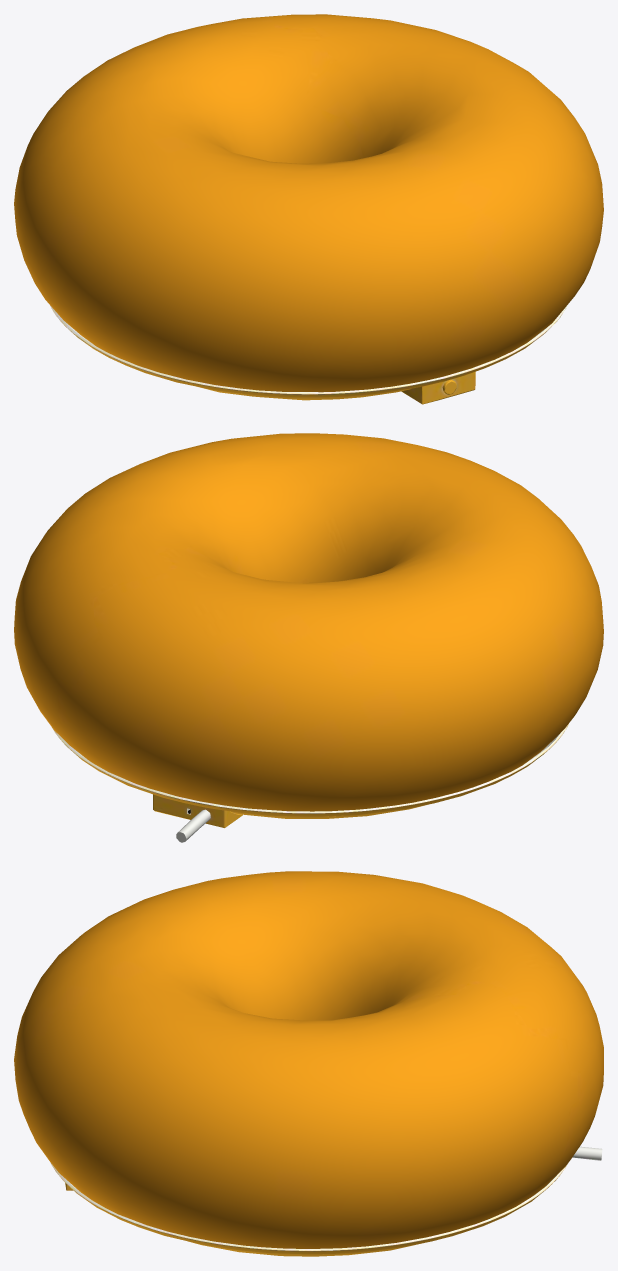
File: varmblixt_lampa_led_stoowa_scienna_80499199.glb
The picture shows the model from 3 angles, top to bottom: view 1: azimuth 30°, elevation 25°; view 2: azimuth 150°, elevation 25°; view 3: azimuth 270°, elevation 25°; orthographic projection.
Visible parts, largest first — view 1: varmblixt_lampa_led_stoowa_scienna_80499199; view 2: varmblixt_lampa_led_stoowa_scienna_80499199; view 3: varmblixt_lampa_led_stoowa_scienna_80499199.
Part boxes in pixels (x1,y1,x2,y2): varmblixt_lampa_led_stoowa_scienna_80499199: (14,14,603,404); varmblixt_lampa_led_stoowa_scienna_80499199: (14,433,603,842); varmblixt_lampa_led_stoowa_scienna_80499199: (14,871,603,1256).
Bounding box in the file's own units: 0.3004 × 0.121 × 0.3002.
1 material, 1 textured.
